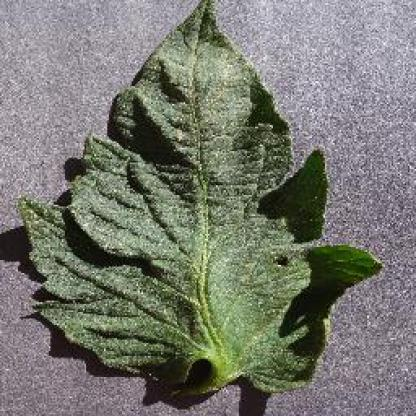good leaf: (70, 0, 328, 365)
